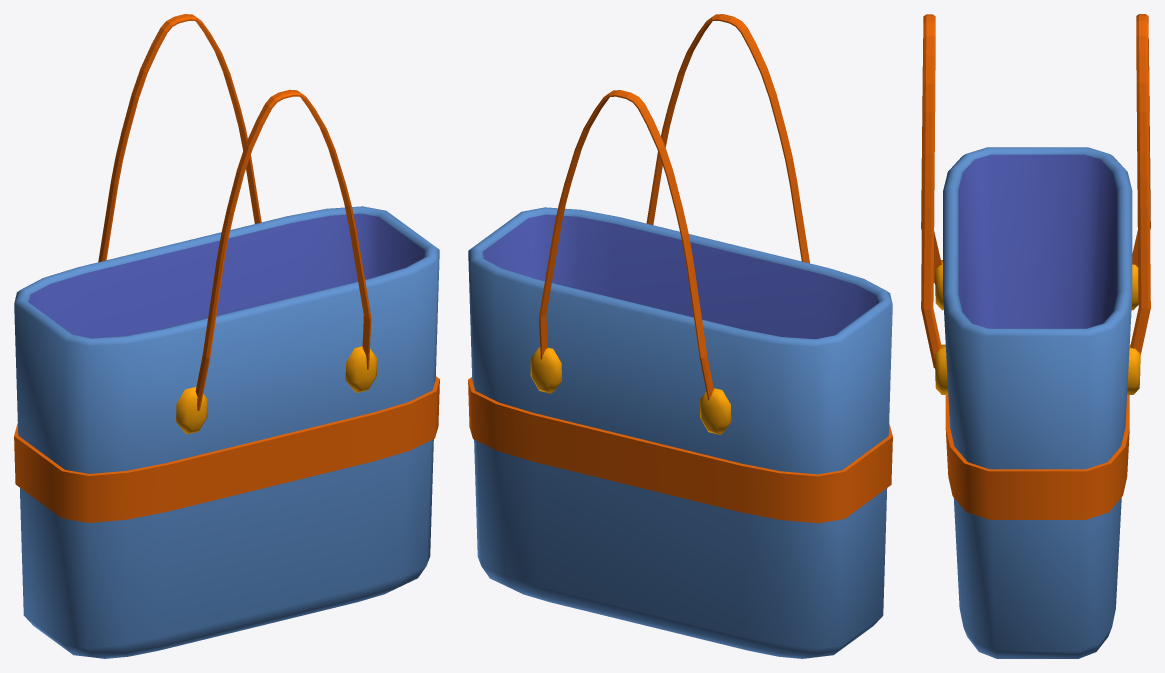
File: Bag-3.fbx
3 views of the same model, side by side, from view 1: azimuth 30°, elevation 25°; view 2: azimuth 150°, elevation 25°; view 3: azimuth 270°, elevation 25° (orthographic). The views are drawn at different scales.
Parts seen in each view (by area): view 1: Bag-1; view 2: Bag-1; view 3: Bag-1.
Boxes of the visible parts, x1=… form: Bag-1: x1=14, y1=14, x2=439, y2=658; Bag-1: x1=468, y1=14, x2=892, y2=658; Bag-1: x1=921, y1=14, x2=1150, y2=658.
Bounding box in the file's own units: 7.07 × 9.87 × 3.63.
